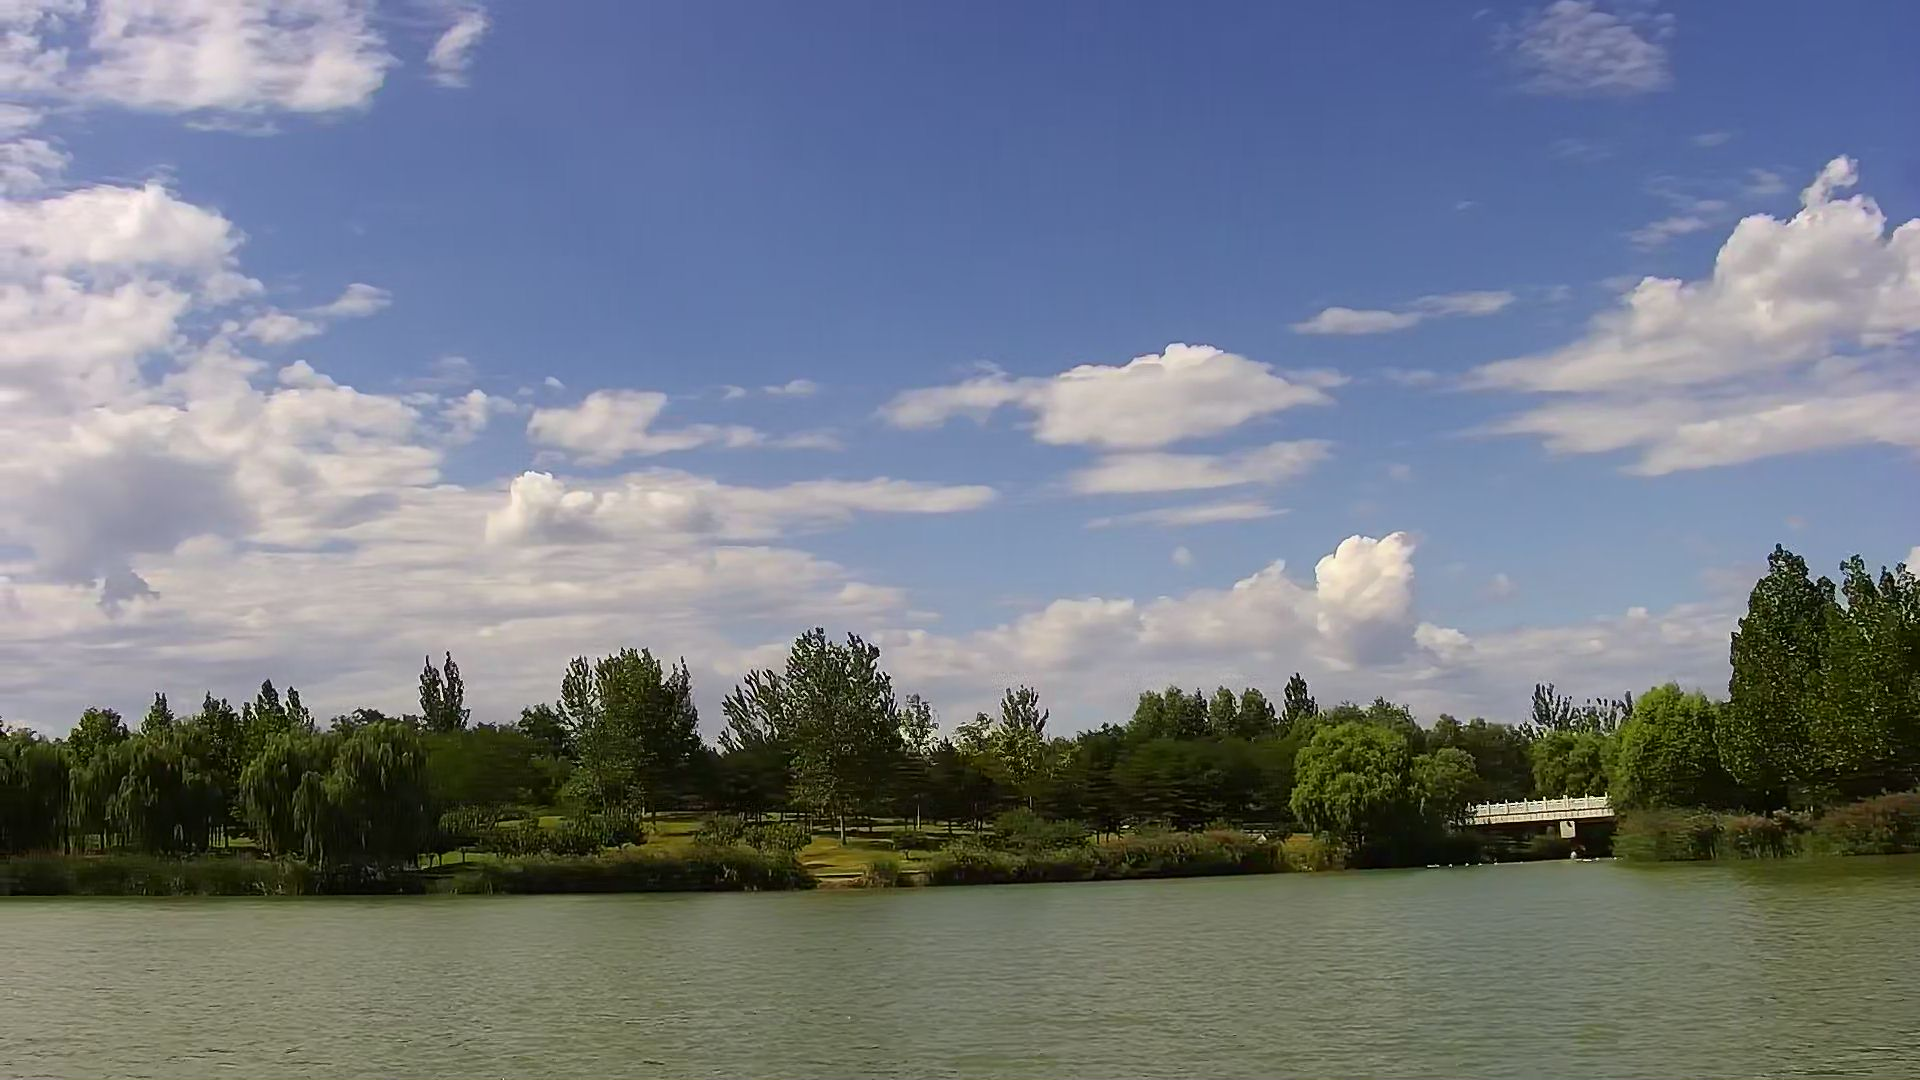bridge: (1477, 795, 1617, 860)
